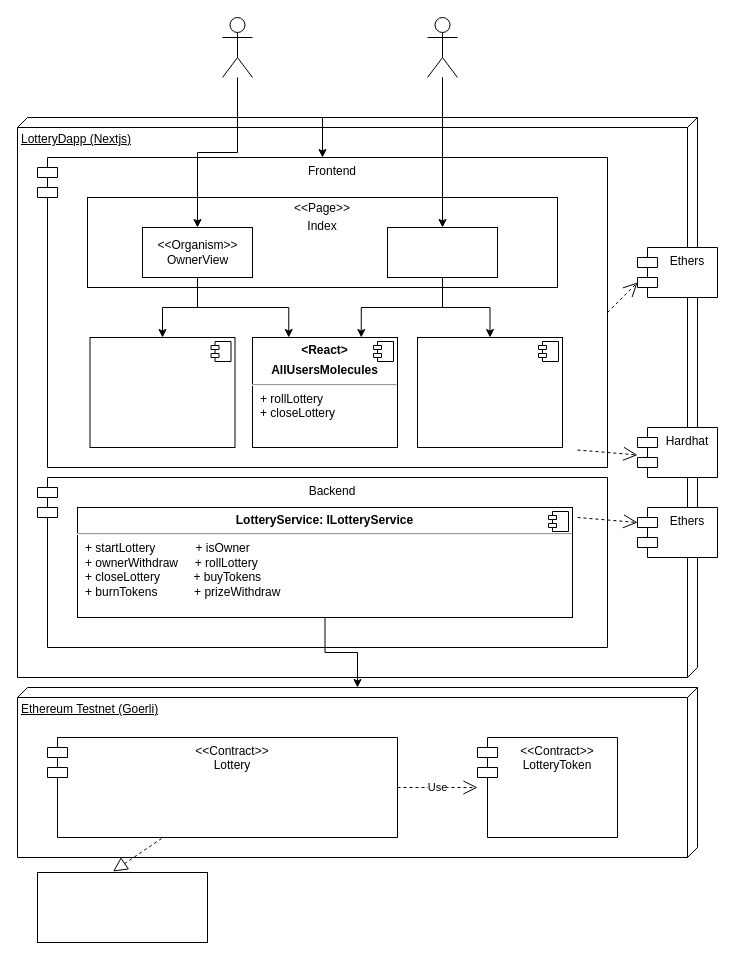
Some shapes in this 735 by 960 pixel diagram are drawn without their labels. The centre of each missing label's shape, as x and y in pixels:
"<<Organism>> PlayerView" goes at point 442,252.
"<React> OwnerMolecules + startLottery + ownerWithdraw" goes at point 162,392.
"<React> PlayerMolecules + buyTokens + burnTokens + prizeWithdraw" goes at point 489,392.
"Owner" goes at point 237,47.
"Player" goes at point 442,47.
"State machine pattern" goes at point 122,907.
